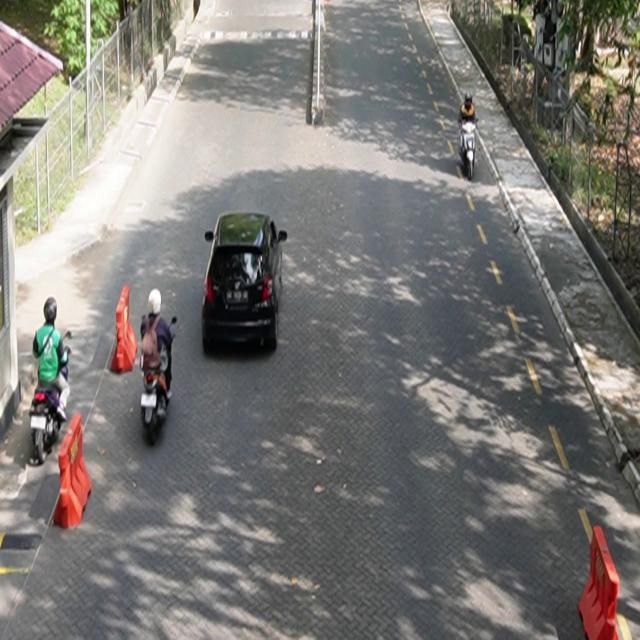car: (203, 212, 289, 354)
